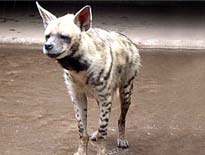hyena: (36, 3, 142, 154)
